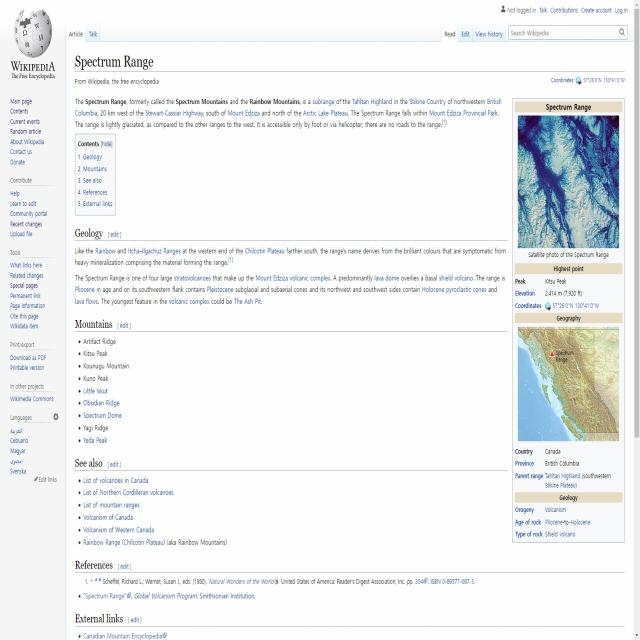content: (74, 130, 116, 215)
menu-bar: (537, 3, 631, 17)
menu-panel: (440, 24, 506, 44), (66, 21, 102, 42)
search: (507, 22, 630, 41)
side-panel: (1, 91, 64, 494)
